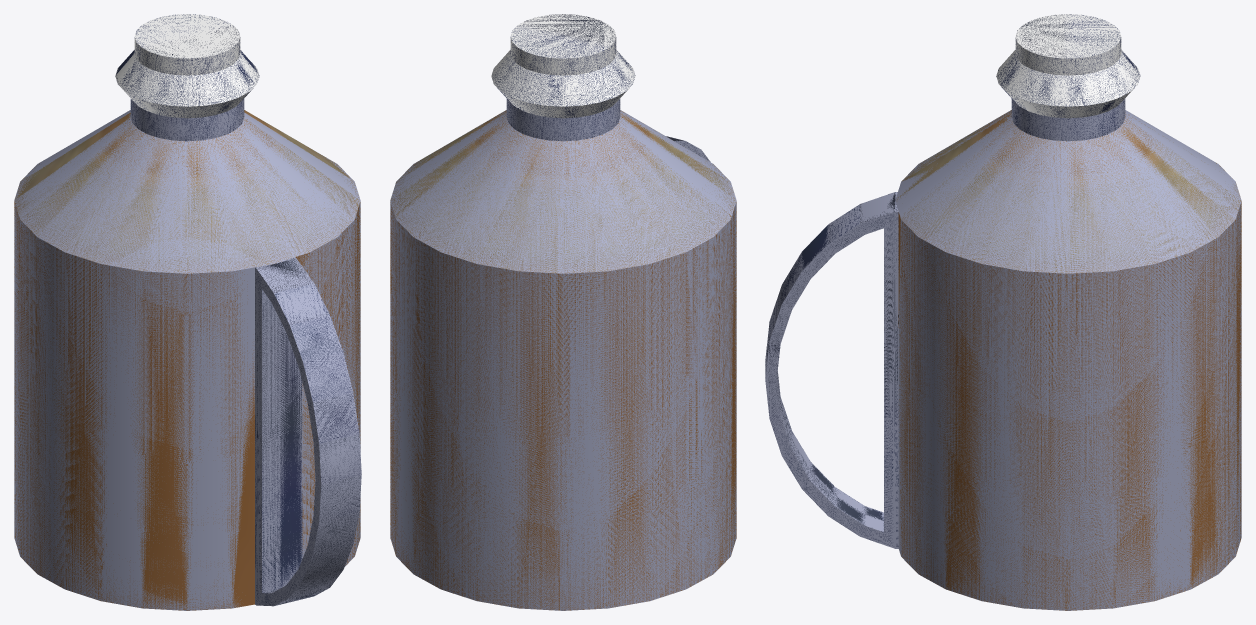
Rendered from rumjug.fbx.
The picture shows the model from 3 angles, left to right: view 1: azimuth 30°, elevation 25°; view 2: azimuth 150°, elevation 25°; view 3: azimuth 270°, elevation 25°; orthographic projection.
Visible parts, largest first — view 1: Model; view 2: Model; view 3: Model.
Boxes of the visible parts, box(x1,y1,x2,y2) form: Model: box(14, 14, 361, 610); Model: box(390, 14, 736, 610); Model: box(765, 14, 1241, 610).
Size of the model in its own units: 19 by 30.34 by 26.12.
